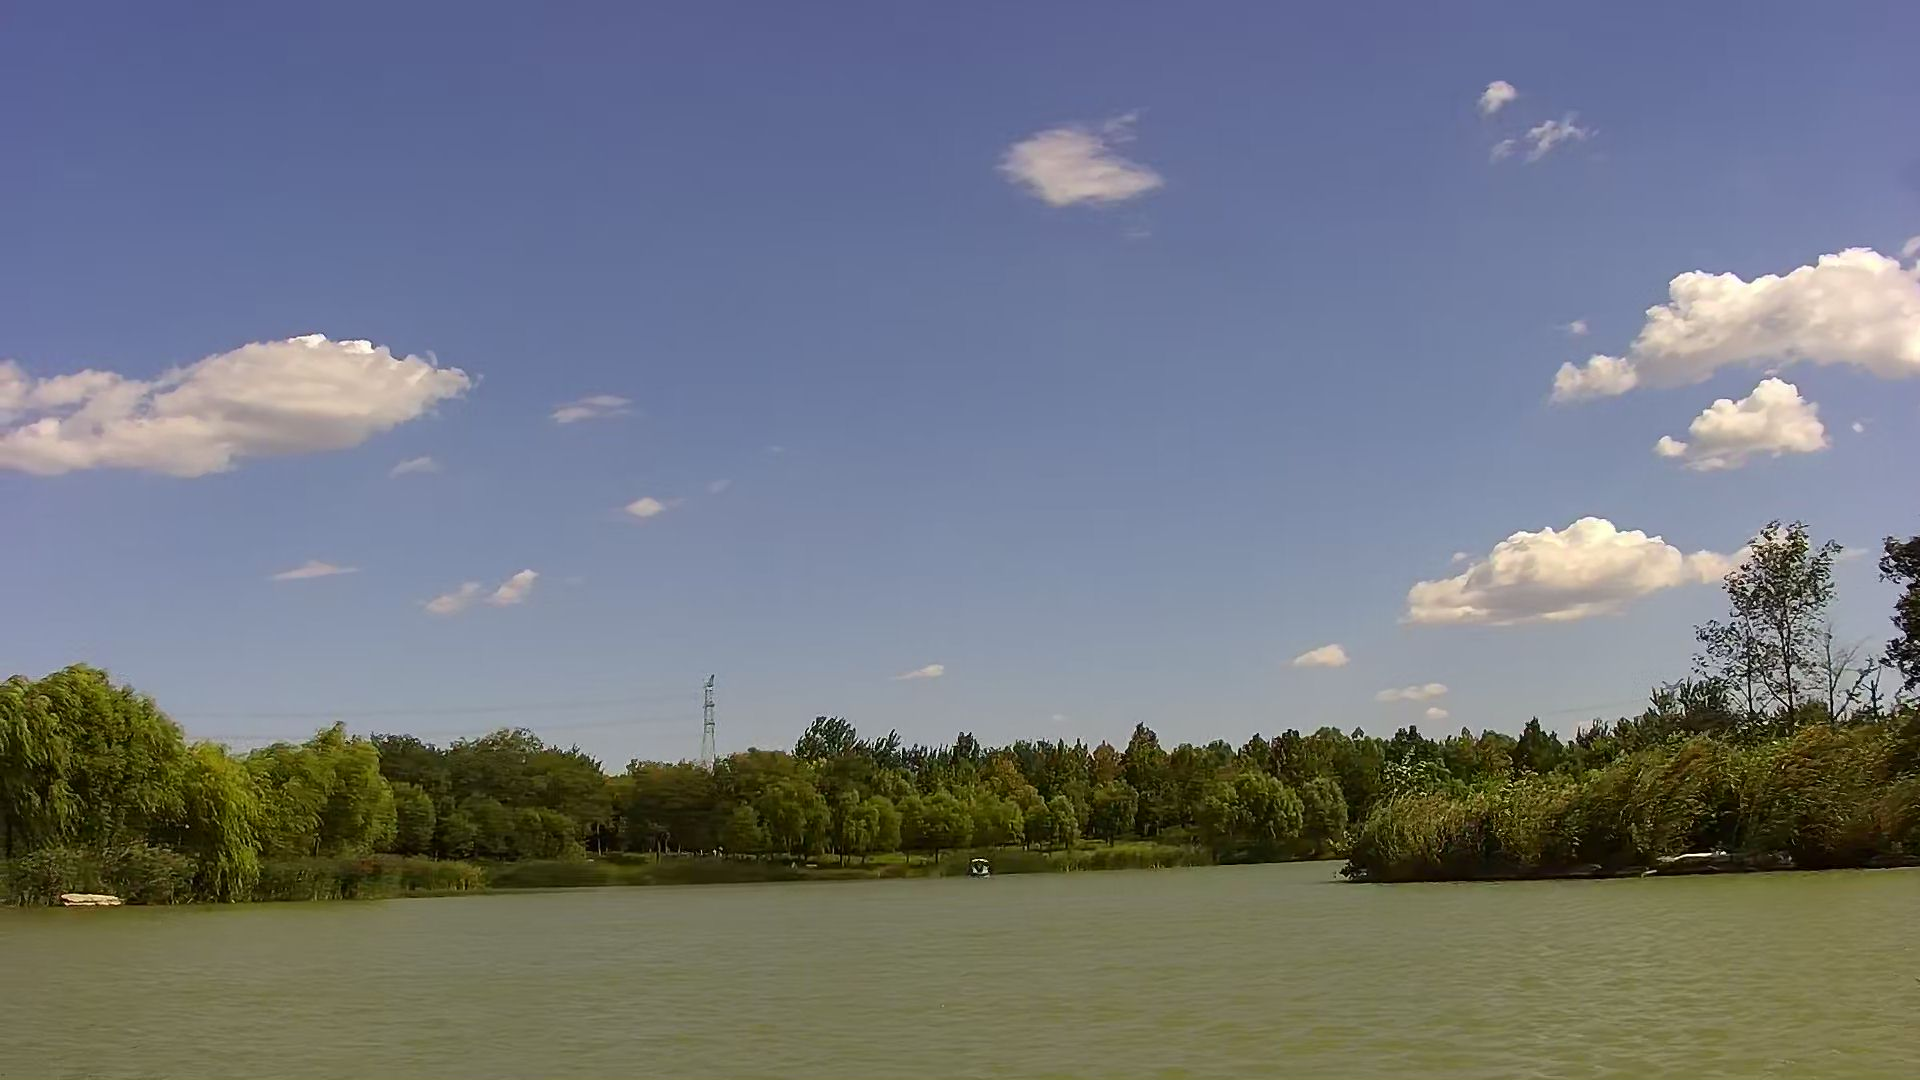boat: (968, 855, 993, 882)
